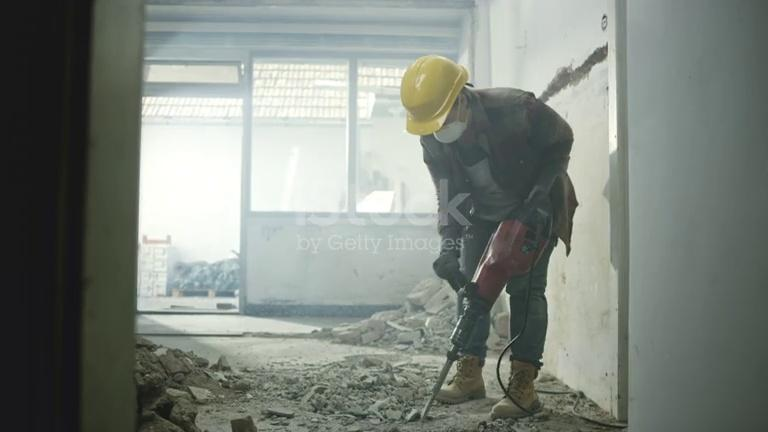helmet: (399, 55, 469, 136)
mask: (432, 117, 469, 144)
person: (400, 55, 579, 420)
